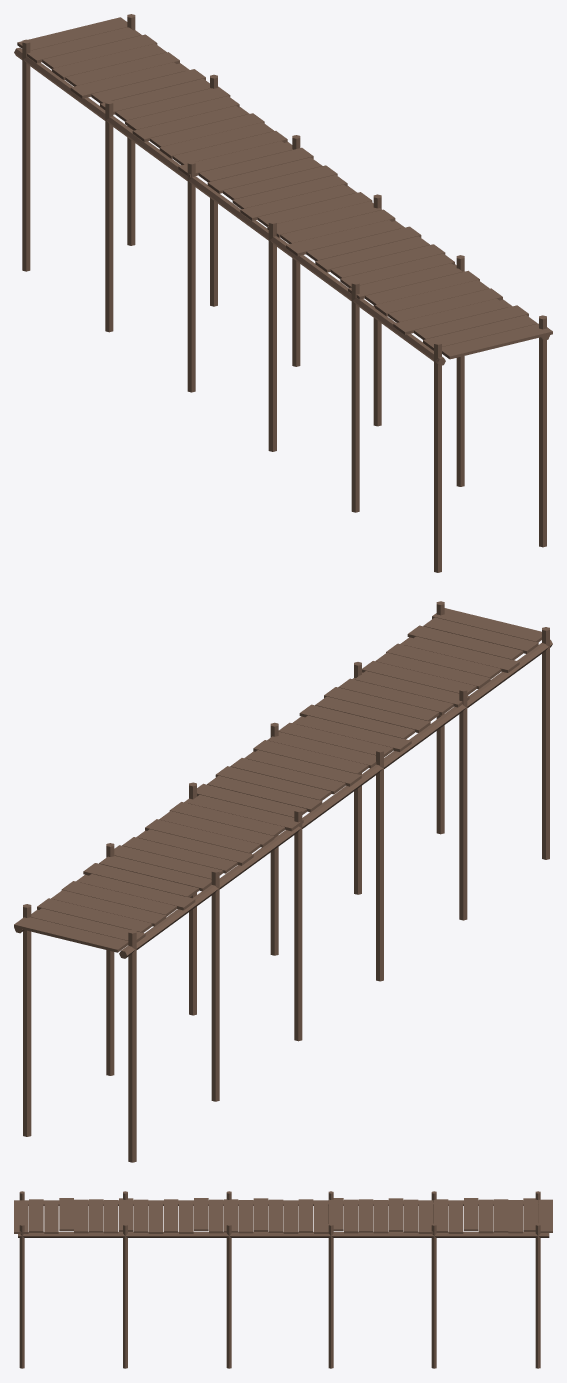
File: mdl_Bridge01.fbx
The picture shows the model from 3 angles, top to bottom: view 1: azimuth 30°, elevation 25°; view 2: azimuth 150°, elevation 25°; view 3: azimuth 270°, elevation 25°; orthographic projection. The views are drawn at different scales.
Parts seen in each view (by area): view 1: mdl_Bridge03; view 2: mdl_Bridge03; view 3: mdl_Bridge03.
Boxes of the visible parts, left/top/right/bottom form: mdl_Bridge03: left=14, top=14, right=552, bottom=572; mdl_Bridge03: left=14, top=601, right=552, bottom=1162; mdl_Bridge03: left=14, top=1191, right=552, bottom=1368.
Size of the model in its own units: 149 by 287 by 981.
1 material, 1 textured.
